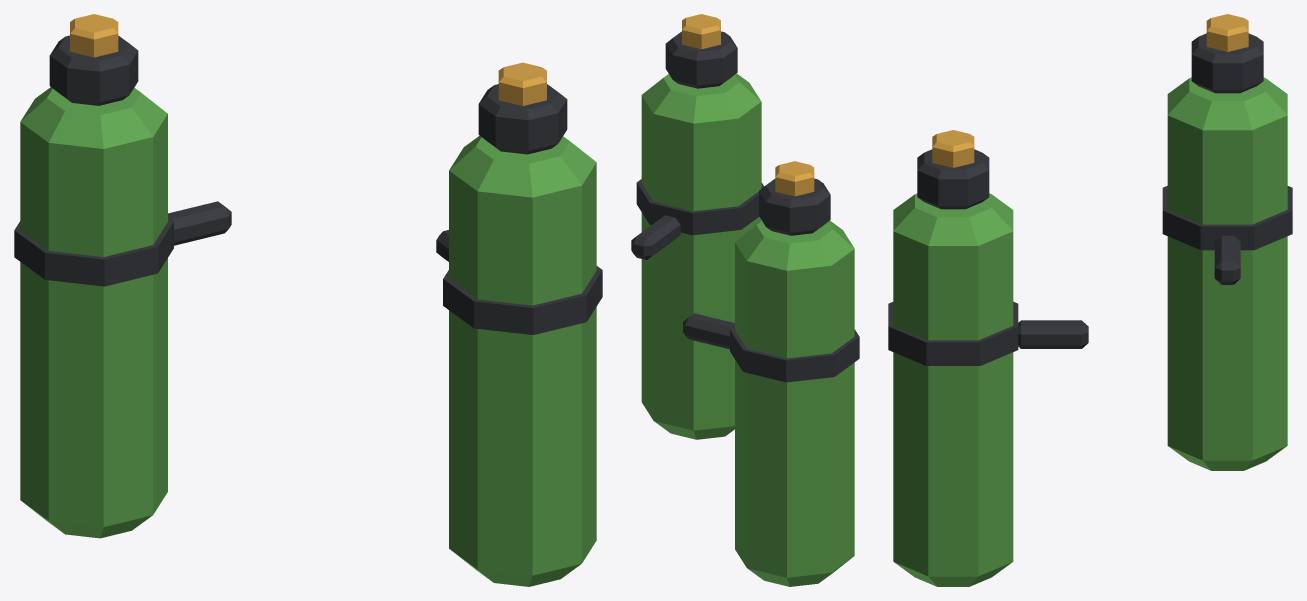
The model's file is MenderKit6.obj.
3 renders of one model, left to right at view 1: azimuth 30°, elevation 25°; view 2: azimuth 150°, elevation 25°; view 3: azimuth 270°, elevation 25°, orthographic. The views are drawn at different scales.
Parts seen in each view (by area): view 1: MenderKit6; view 2: MenderKit6; view 3: MenderKit6.
Boxes of the visible parts, x1,y1,x2,y2 form: MenderKit6: (14, 14, 602, 586); MenderKit6: (631, 14, 859, 586); MenderKit6: (888, 14, 1292, 586).
Size of the model in its own units: 0.4657 by 0.55 by 0.4657.
